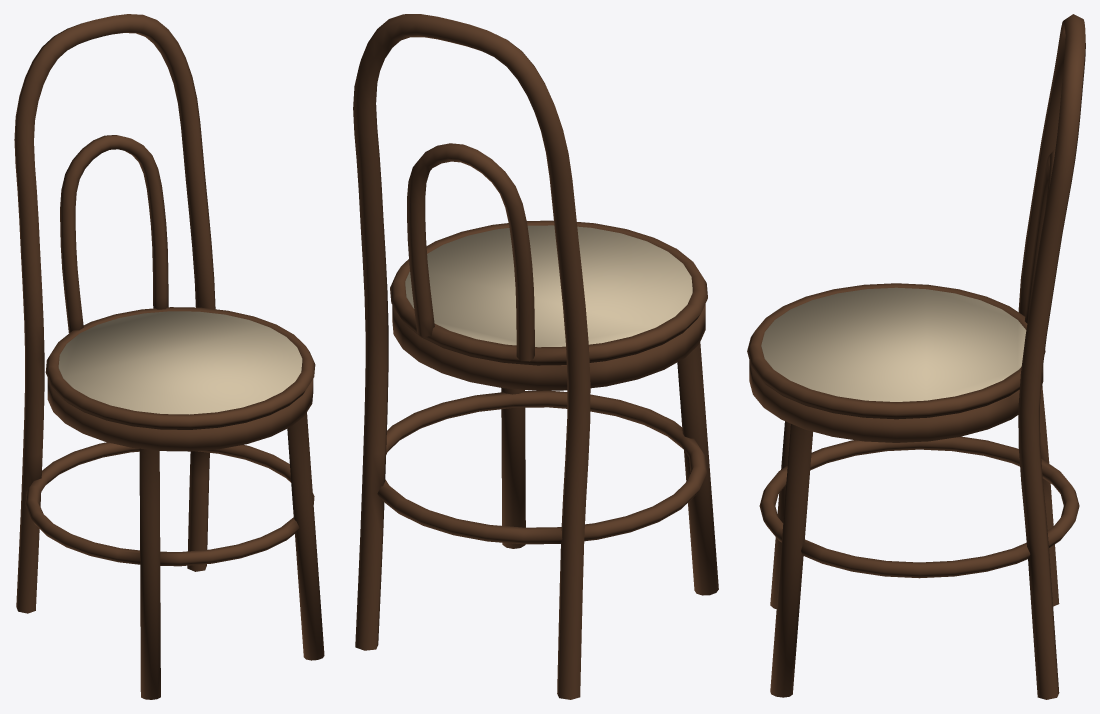
Rendered from cafeChair.glb.
3 renders of one model, left to right at view 1: azimuth 30°, elevation 25°; view 2: azimuth 150°, elevation 25°; view 3: azimuth 270°, elevation 25°, orthographic. The views are drawn at different scales.
Visible parts, largest first — view 1: chair; view 2: chair; view 3: chair.
Boxes of the visible parts, x1,y1,x2,y2 form: chair: [14, 14, 324, 699]; chair: [353, 14, 718, 699]; chair: [747, 14, 1085, 699].
Size of the model in its own units: 0.446 by 0.9523 by 0.4722.
